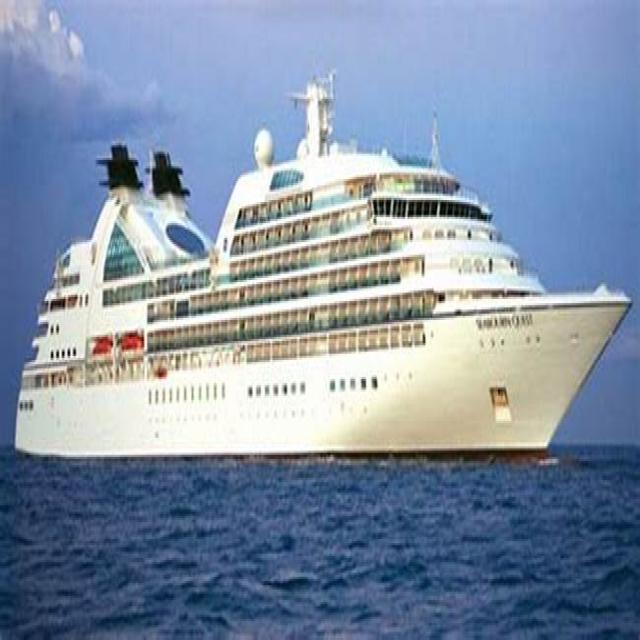PassengerShip: (14, 123, 623, 470)
